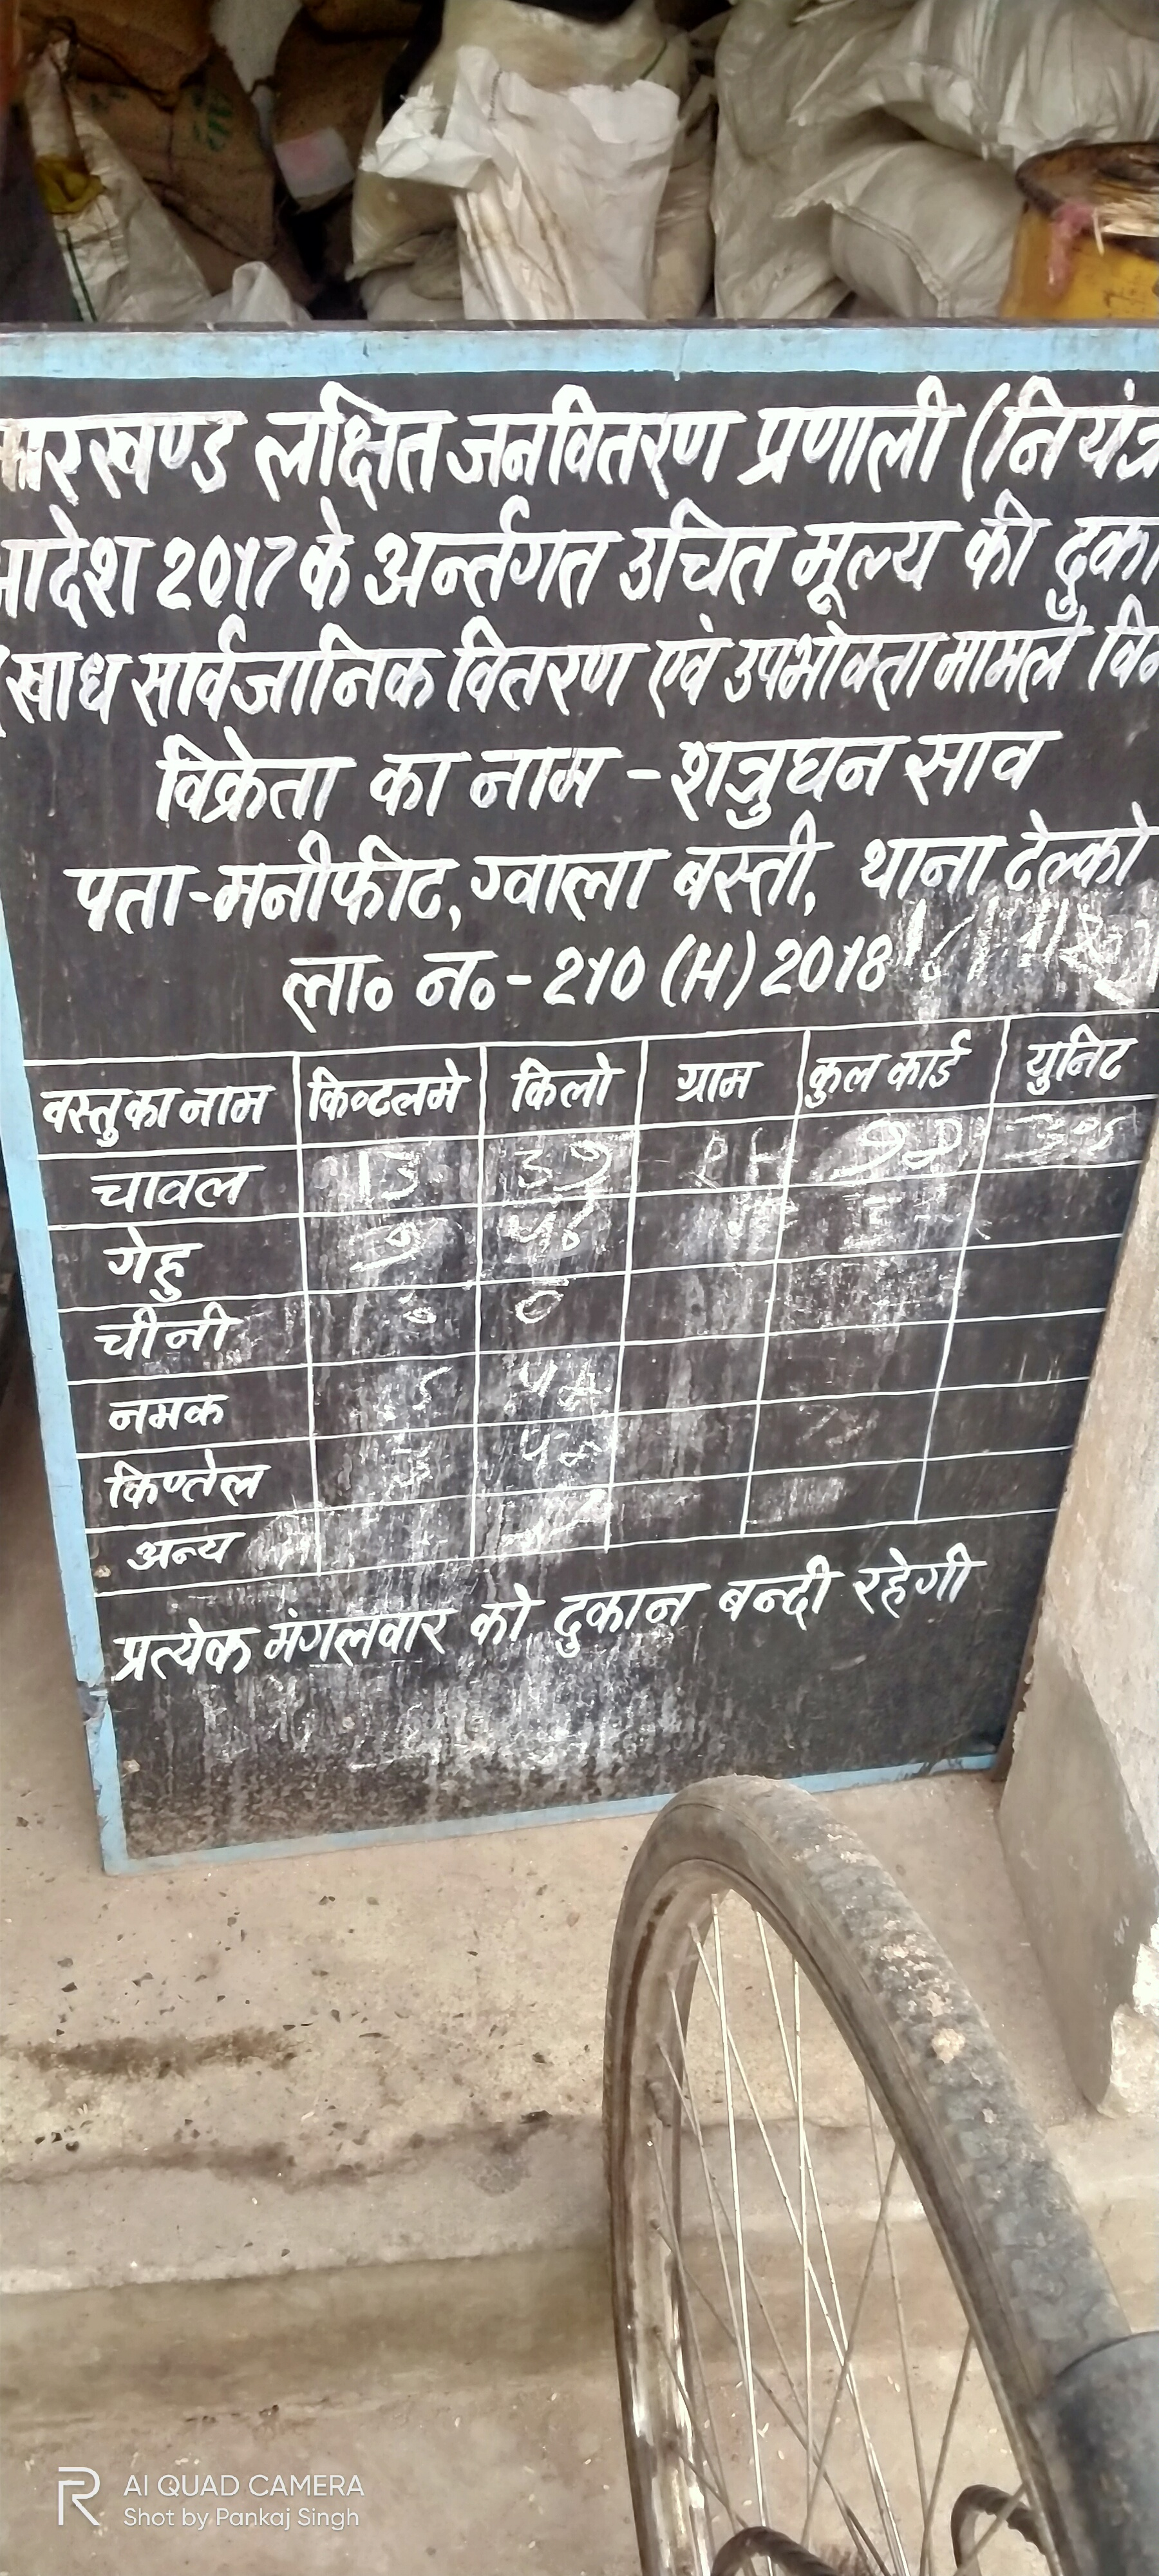text: (3, 314, 1156, 1888)
